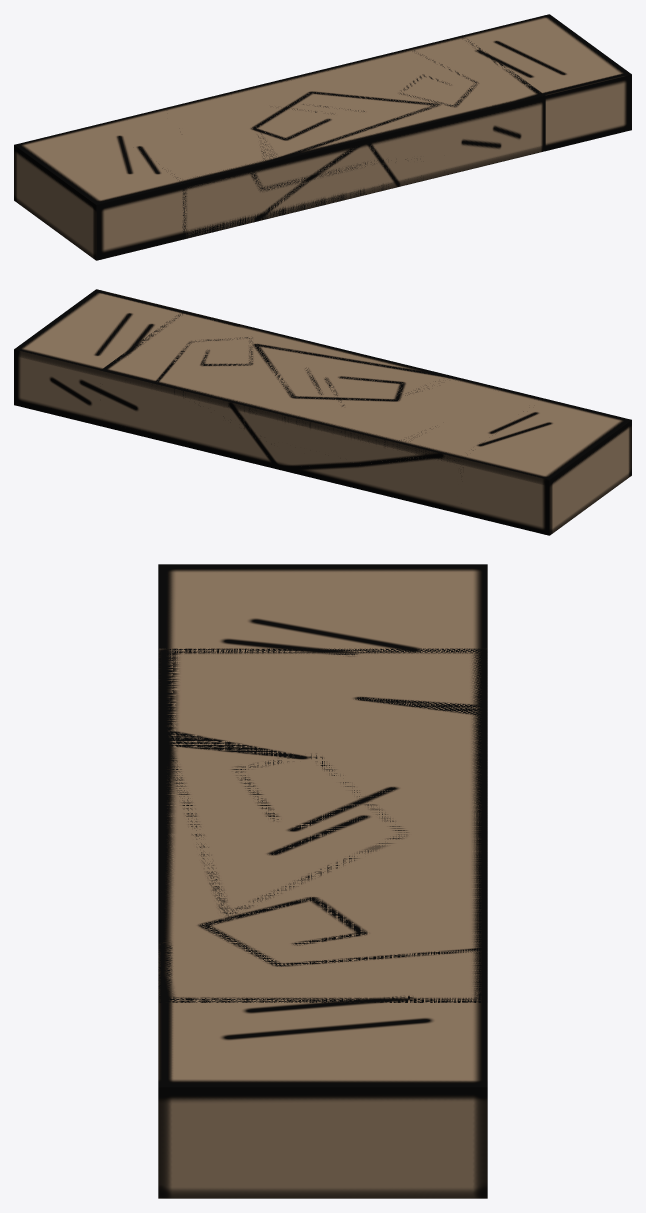
File: planchettes.fbx
3 views of the same model, one above another, from view 1: azimuth 30°, elevation 25°; view 2: azimuth 150°, elevation 25°; view 3: azimuth 270°, elevation 25° (orthographic). The views are drawn at different scales.
Parts seen in each view (by area): view 1: planchette, planchette2; view 2: planchette, planchette2; view 3: planchette, planchette2.
Boxes of the visible parts, x1,y1,x2,y2 form: planchette: (14, 14, 631, 260); planchette2: (146, 35, 545, 239); planchette: (14, 289, 631, 535); planchette2: (100, 310, 529, 506); planchette: (158, 564, 487, 1198); planchette2: (158, 648, 487, 1002).
Size of the model in its own units: 18.37 by 1.83 by 4.89.
